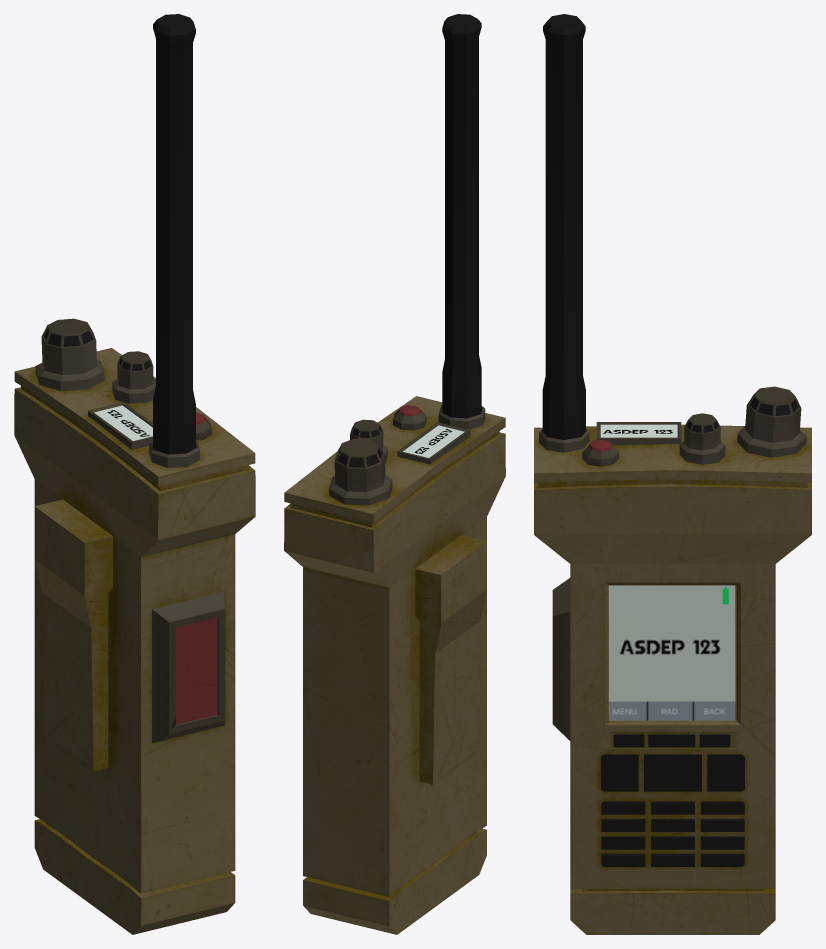
The model's file is radio.obj.
The picture shows the model from 3 angles, left to right: view 1: azimuth 30°, elevation 25°; view 2: azimuth 150°, elevation 25°; view 3: azimuth 270°, elevation 25°; orthographic projection. The views are drawn at different scales.
Parts seen in each view (by area): view 1: Cylinder; view 2: Cylinder; view 3: Cylinder.
Boxes of the visible parts, x1,y1,x2,y2 form: Cylinder: [14, 14, 255, 934]; Cylinder: [284, 14, 505, 934]; Cylinder: [534, 14, 811, 934].
Bounding box in the file's own units: 0.2331 × 1.61 × 0.46.
